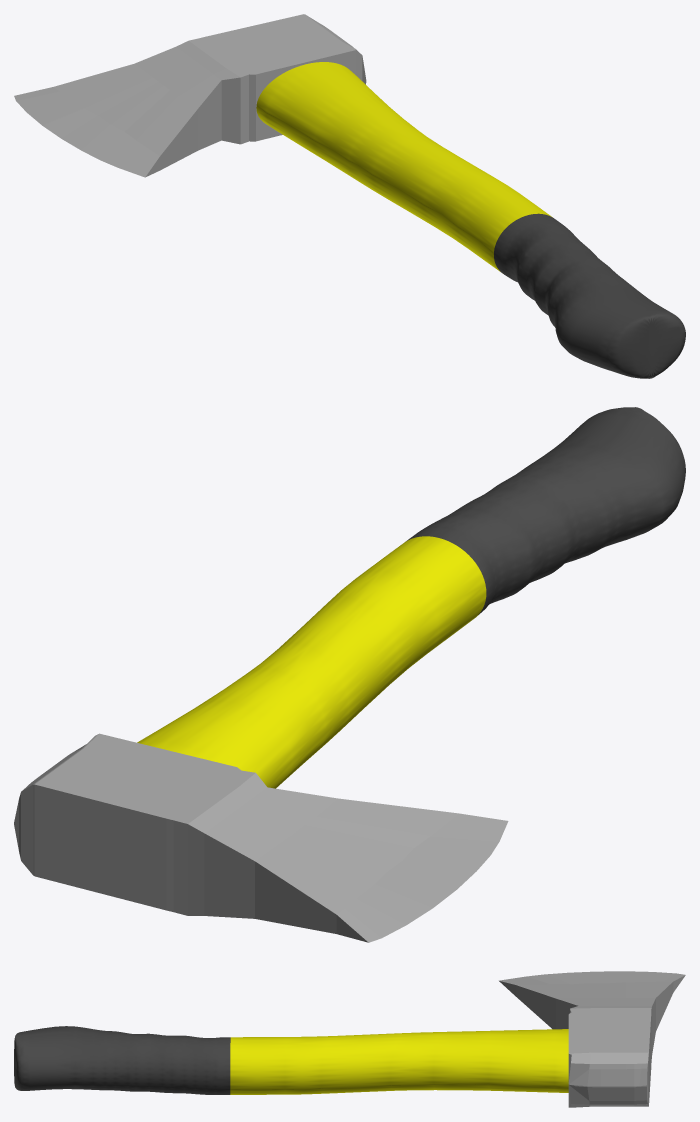
Rendered from axe_machado_MayaExp.fbx.
3 views of the same model, one above another, from view 1: azimuth 30°, elevation 25°; view 2: azimuth 150°, elevation 25°; view 3: azimuth 270°, elevation 25° (orthographic). The views are drawn at different scales.
Visible parts, largest first — view 1: Hilt, Head; view 2: Head, Hilt; view 3: Hilt, Head.
Boxes of the visible parts, x1,y1,x2,y2 form: Hilt: (256,62,685,378); Head: (14,14,366,177); Head: (14,733,508,942); Hilt: (137,407,685,788); Hilt: (14,1026,568,1094); Head: (499,971,685,1107).
Bounding box in the file's own units: 428 × 1051 × 93.04.
